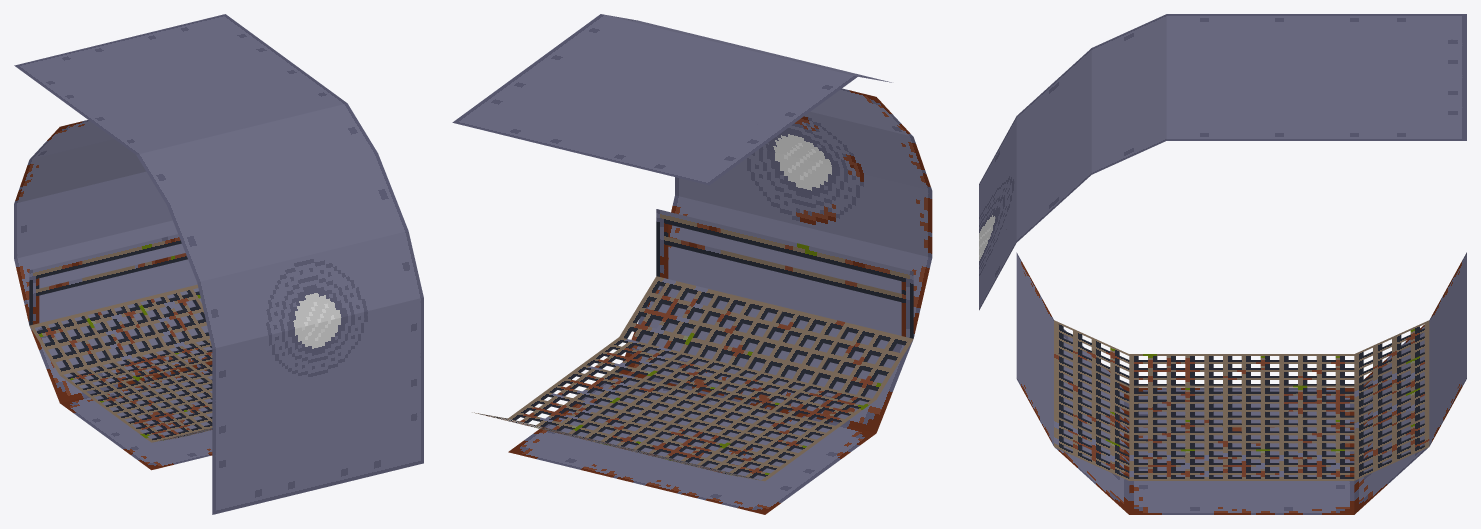
The model's file is SubWallWin.gltf.
3 views of the same model, side by side, from view 1: azimuth 30°, elevation 25°; view 2: azimuth 150°, elevation 25°; view 3: azimuth 270°, elevation 25° (orthographic). The views are drawn at different scales.
Parts seen in each view (by area): view 1: SubWallWin; view 2: SubWallWin; view 3: SubWallWin.
Part boxes in pixels (box(x1,y1,x2,y2)): SubWallWin: box(14, 14, 423, 514); SubWallWin: box(452, 14, 932, 514); SubWallWin: box(979, 14, 1466, 514).
Size of the model in its own units: 2 by 2.75 by 3.25.
Materials: 1 (1 with a texture image).
